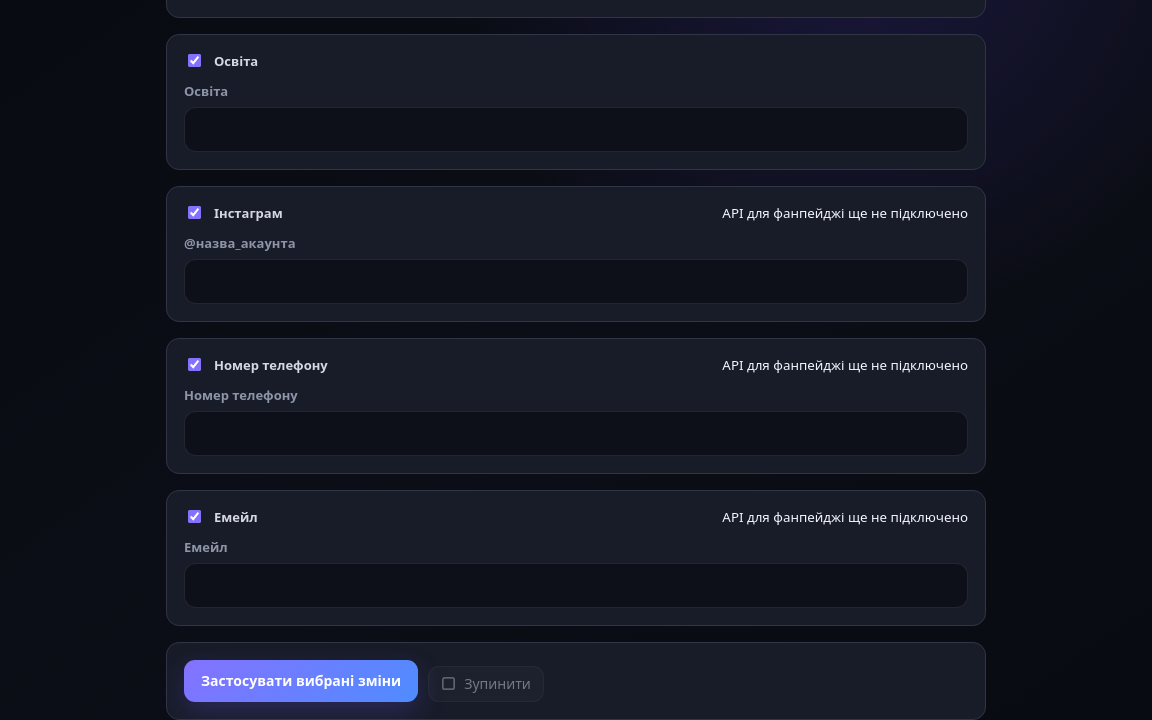
it: Редагування фанпейджі › очищає порожнє біо й пропускає решту порожніх увімкнених полів
The image size is (1152, 720).
(page scrolled)
Click the button "Застосувати вибрані зміни": x=301, y=680 x1=184 y1=660 x2=418 y2=702
(page scrolled)
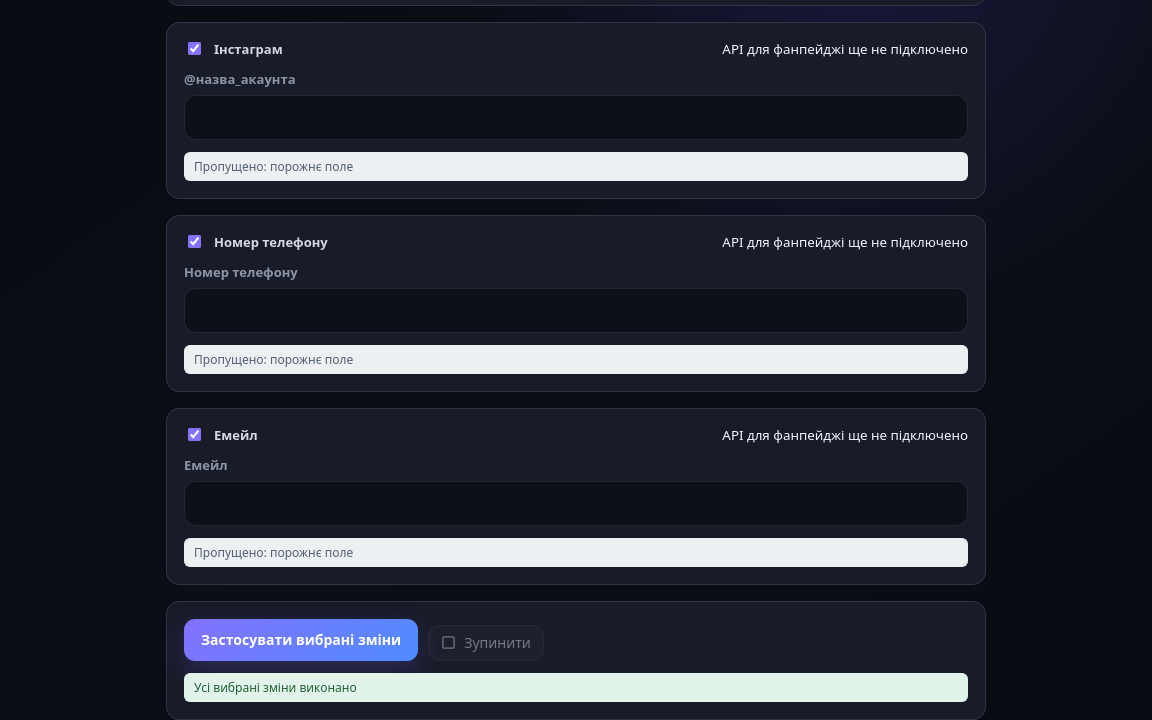
Now the text "Усі вибрані зміни виконано" is shown, box x1=184 y1=672 x2=968 y2=702
